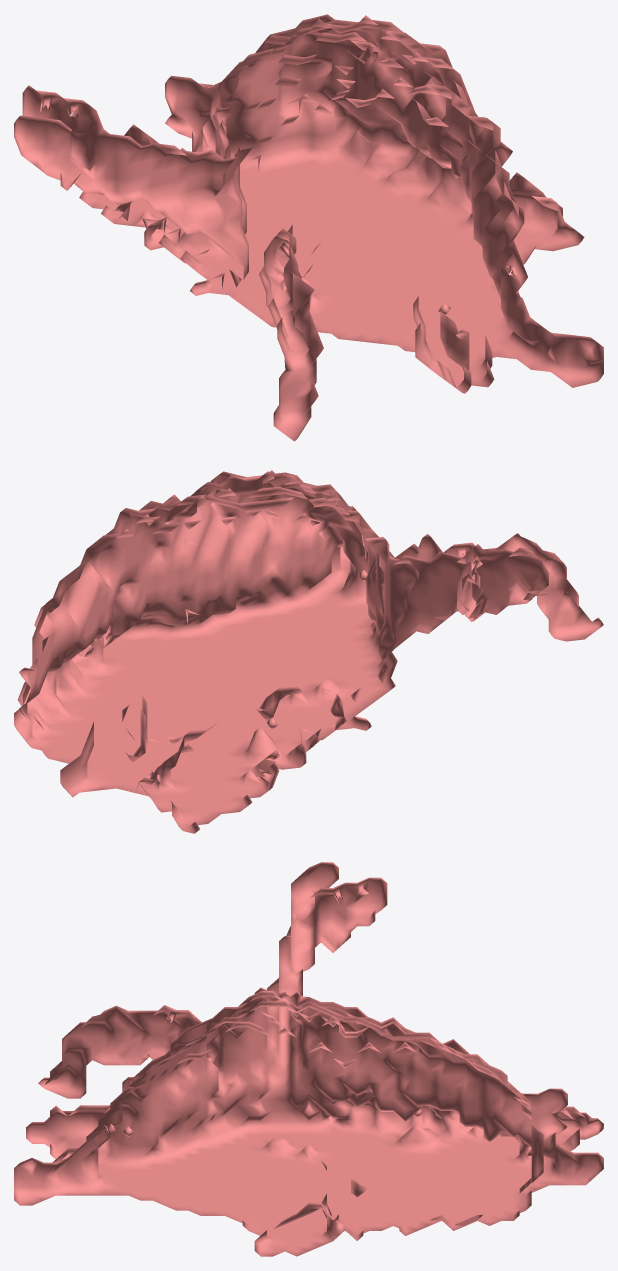
The model's file is osteocyte_10.glb.
3 renders of one model, top to bottom at view 1: azimuth 30°, elevation 25°; view 2: azimuth 150°, elevation 25°; view 3: azimuth 270°, elevation 25°, orthographic. The views are drawn at different scales.
Visible parts, largest first — view 1: osteocyte_10; view 2: osteocyte_10; view 3: osteocyte_10.
Part boxes in pixels (x1,y1,x2,y2): osteocyte_10: (14, 14, 603, 441); osteocyte_10: (14, 470, 603, 833); osteocyte_10: (14, 862, 603, 1256).
Bounding box in the file's own units: 18.78 × 7.6 × 21.91.
